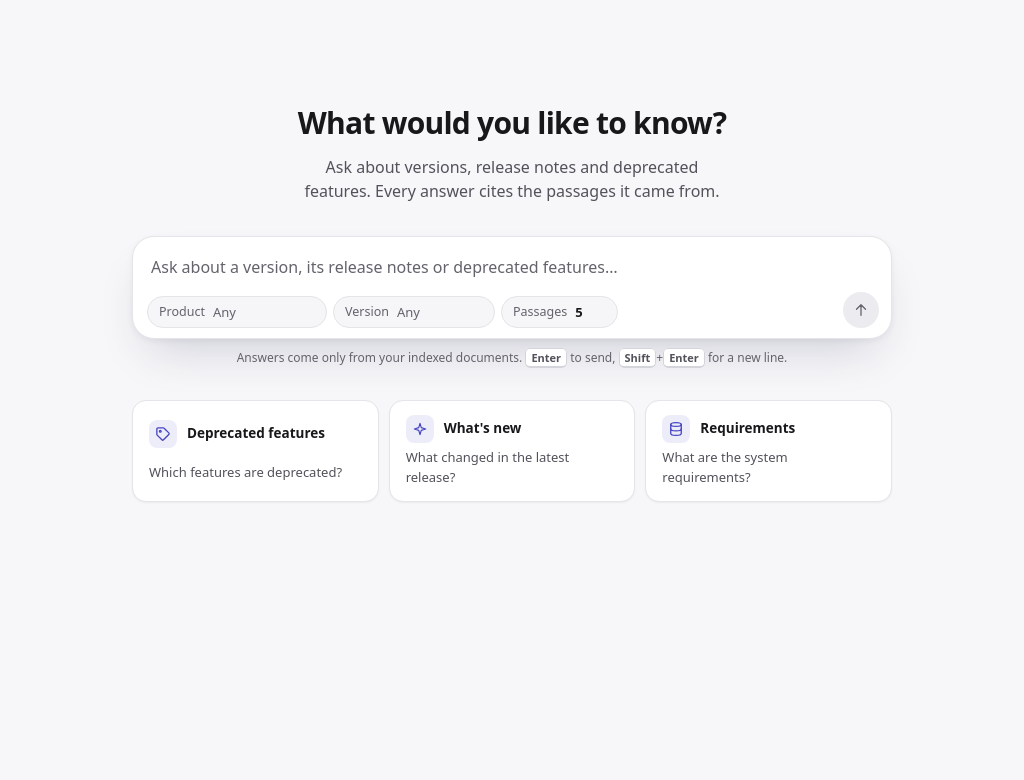
Test: ChatPage: asking › reports each asked question for the sidebar's history
The image size is (1024, 780).
Type "Q?" into the text box named "Question" at (513, 268), box [147,251,879,284]
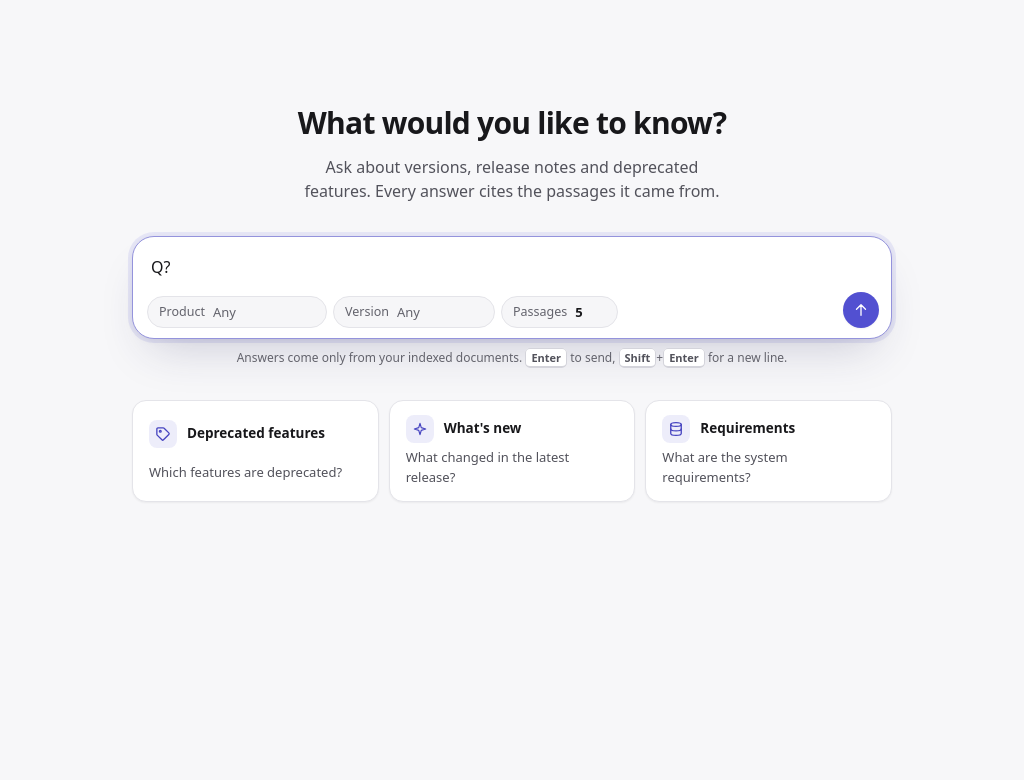
Click the button named "Ask" at (861, 310), box [843,292,879,328]
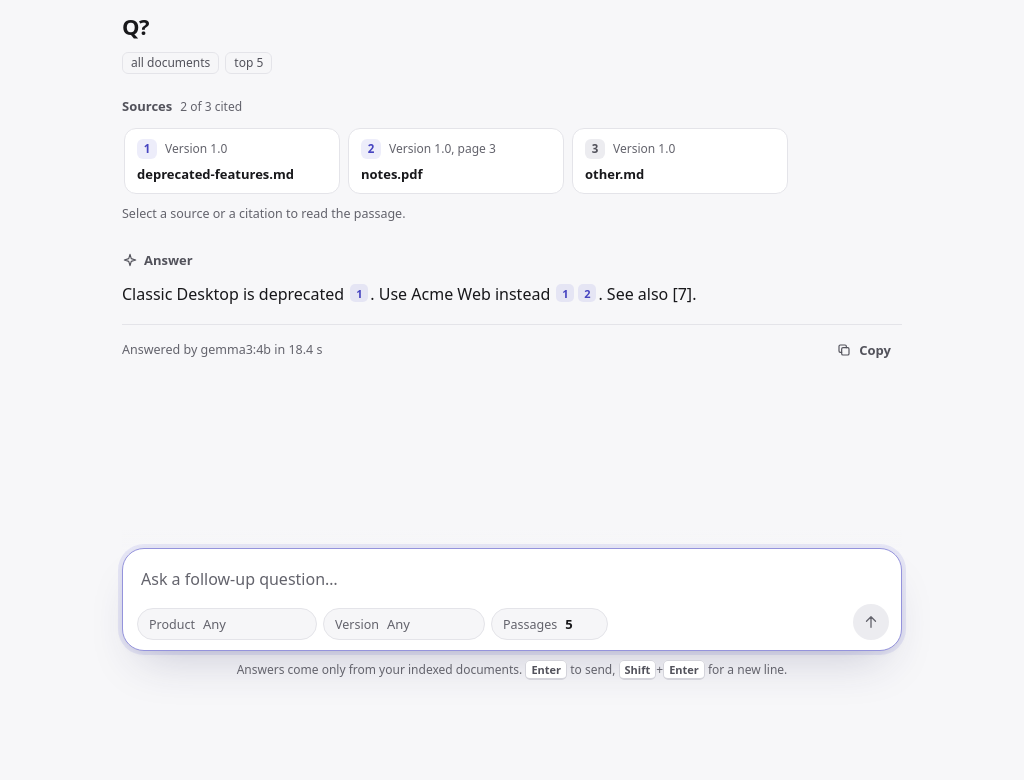
Now the text ". See also [7]." is shown, box [598,283,696,305]
